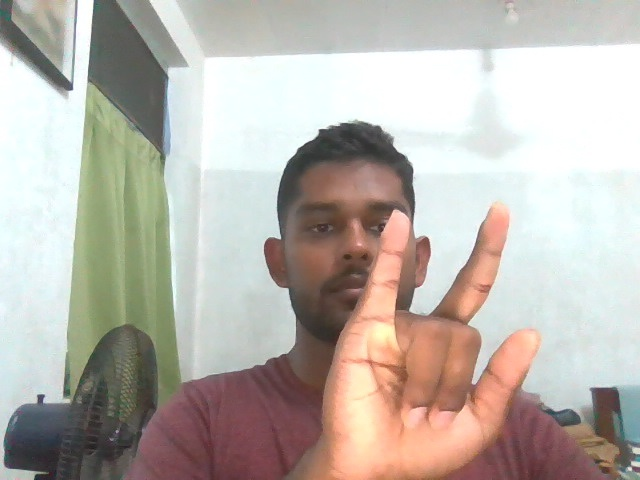hello: (310, 200, 538, 477)
